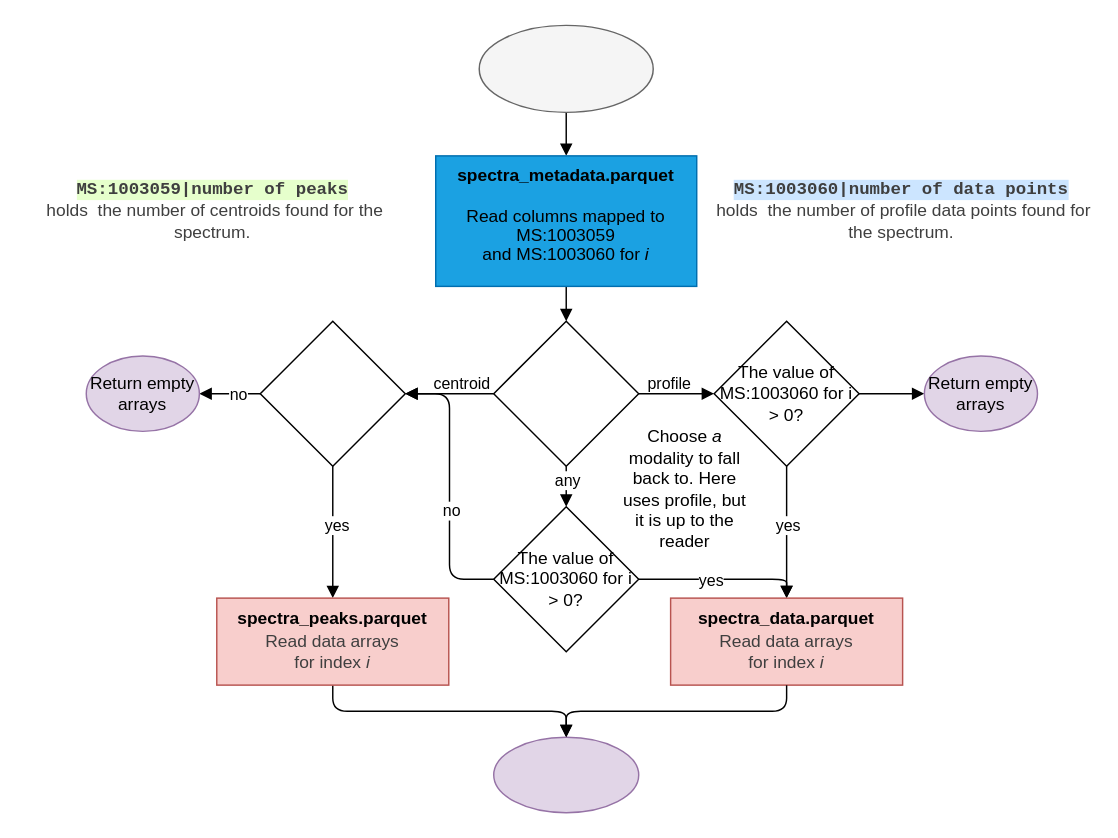
This 1118x838 diagram has some shape labels left out. The shapes that lost their labels are listed below. From the top down, each one's centre as x and y in pixels, then its label:
the point at 565,68: Read spectrum i , optional modality
the point at 332,393: The value of MS:1003059 for i > 0?
the point at 565,393: Required modality?
the point at 565,774: Return data arrays
